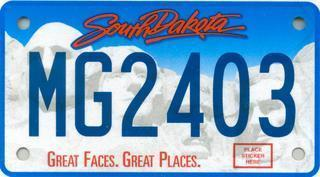placa de veiculo: (6, 1, 313, 169)
